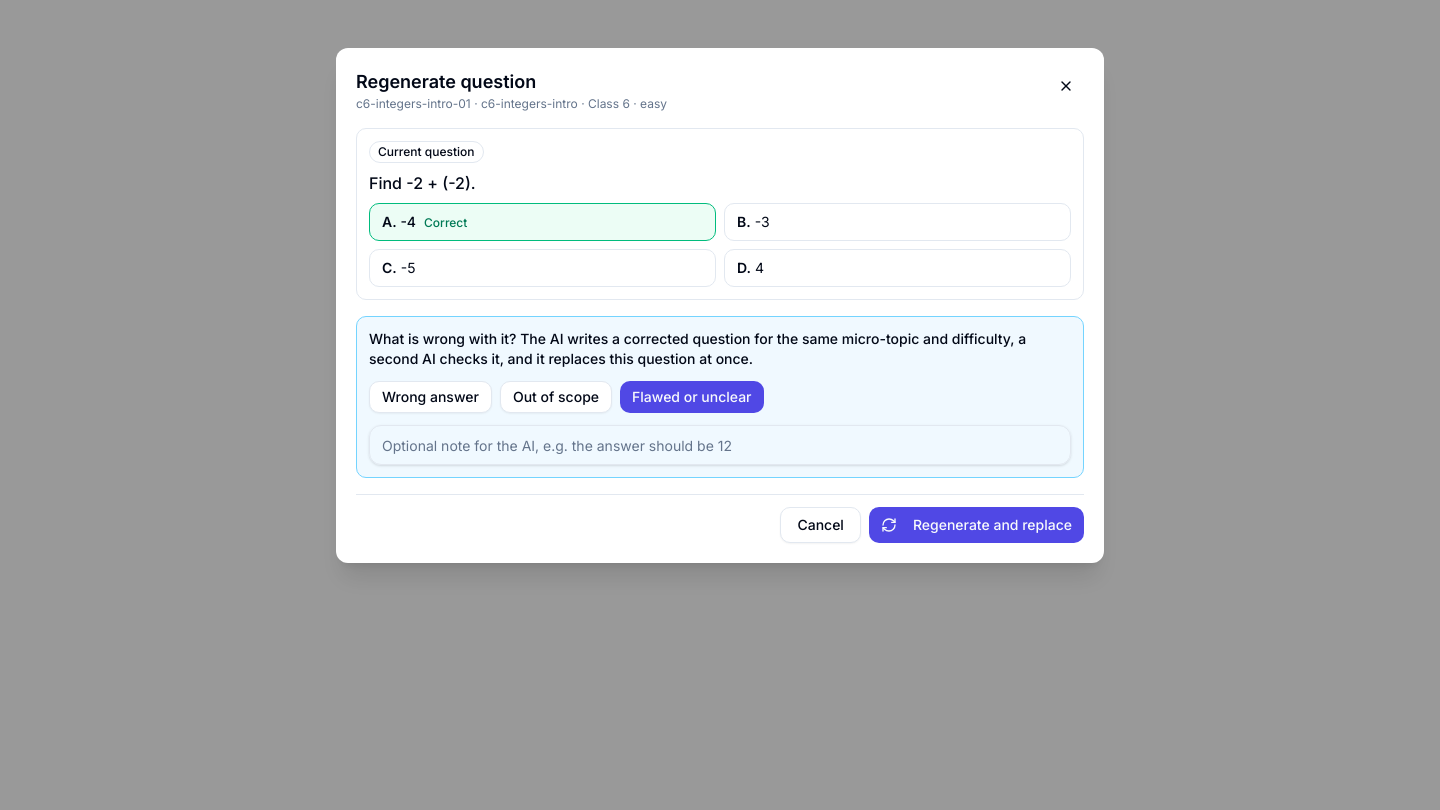
Test: Regenerate for a live question › keeps the old question and offers another try when the check rejects the new version
Step 1. Click the button "Regenerate and replace" → [976, 525], box [869,507,1084,543]
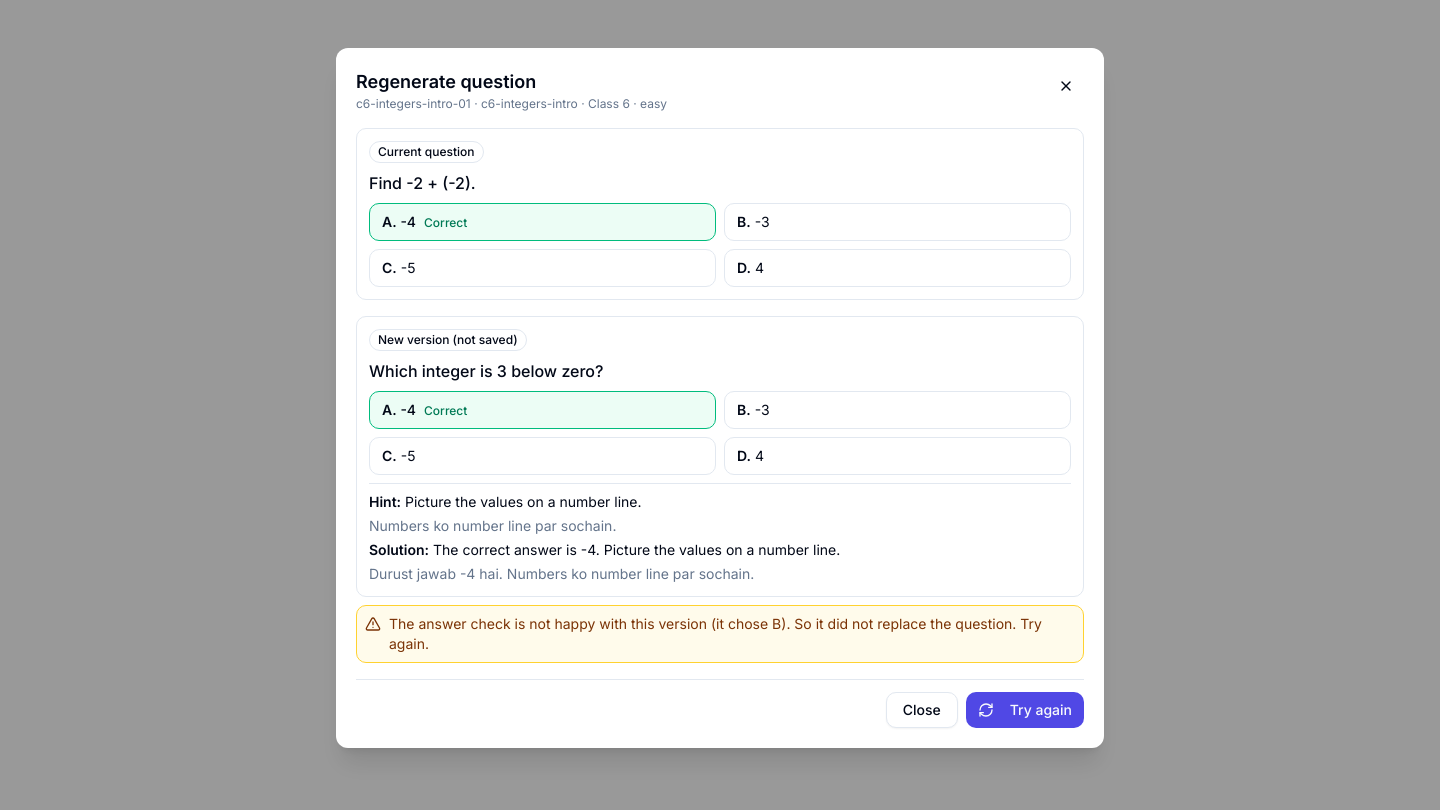
Expected: the text "So it did not replace the question" is shown, [389,615,1042,652]
Expected: the text "it chose B" is shown, [707,615,786,632]
Expected: the button "Try again" is shown, [966,692,1084,728]
